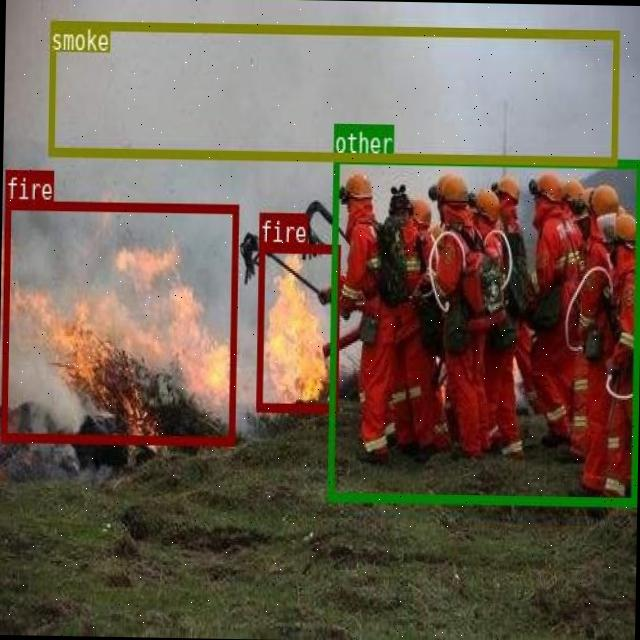fire: (0, 198, 238, 444), (254, 243, 338, 411)
smoke: (47, 20, 617, 163)
